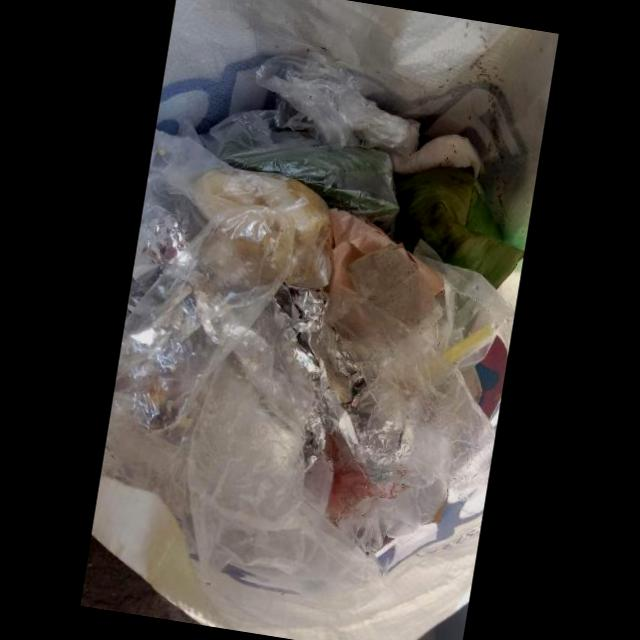giay: (330, 210, 445, 296)
nhom: (274, 284, 413, 485)
tui_ni_long: (114, 136, 335, 432), (173, 335, 381, 588), (326, 248, 516, 485), (199, 109, 401, 236), (256, 52, 421, 158)
vo_rau_cu: (394, 167, 526, 291)
